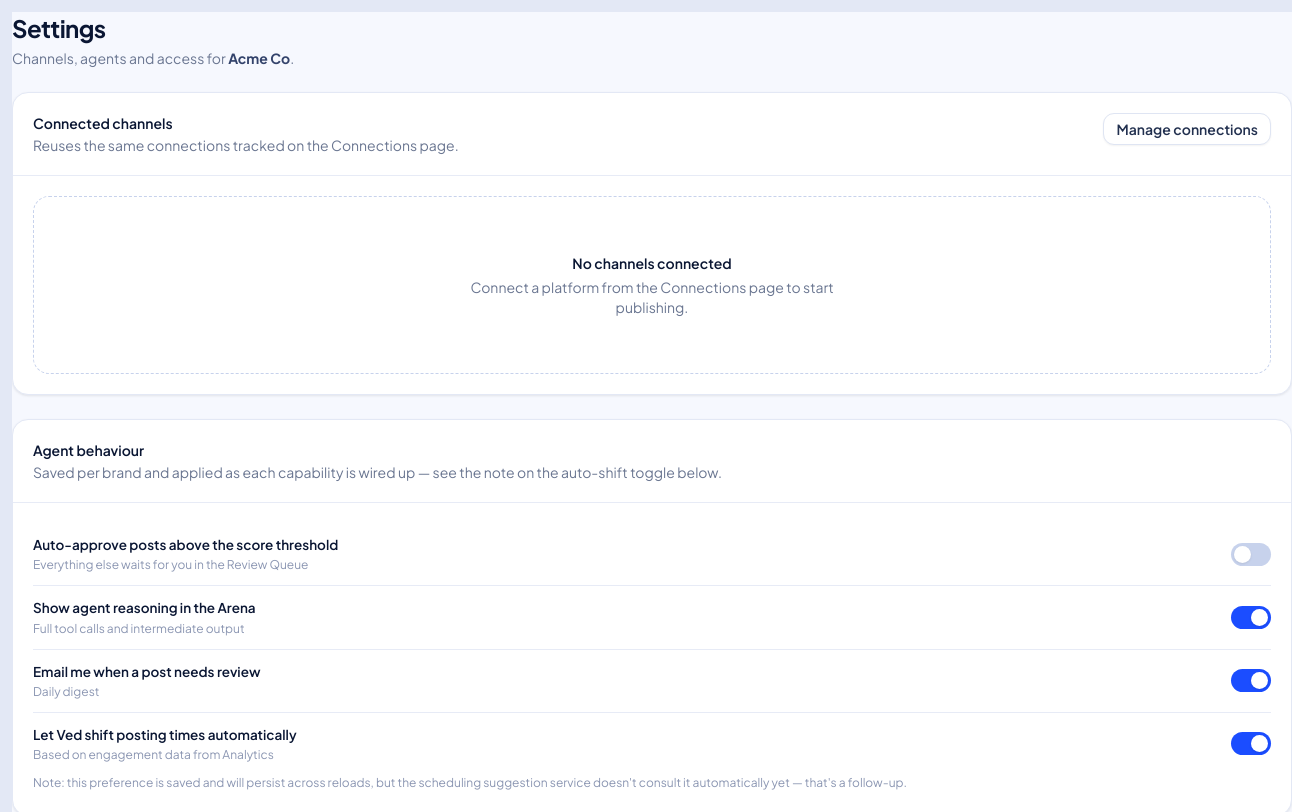
Scenario: SettingsPage › reverts the toggle and shows an error toast when saving fails
What coordinates should you click on to do the following:
click the switch named "Show agent reasoning in the Arena"
I would click on:
 (1251, 617)
Its box is 1231,606 -> 1271,629.
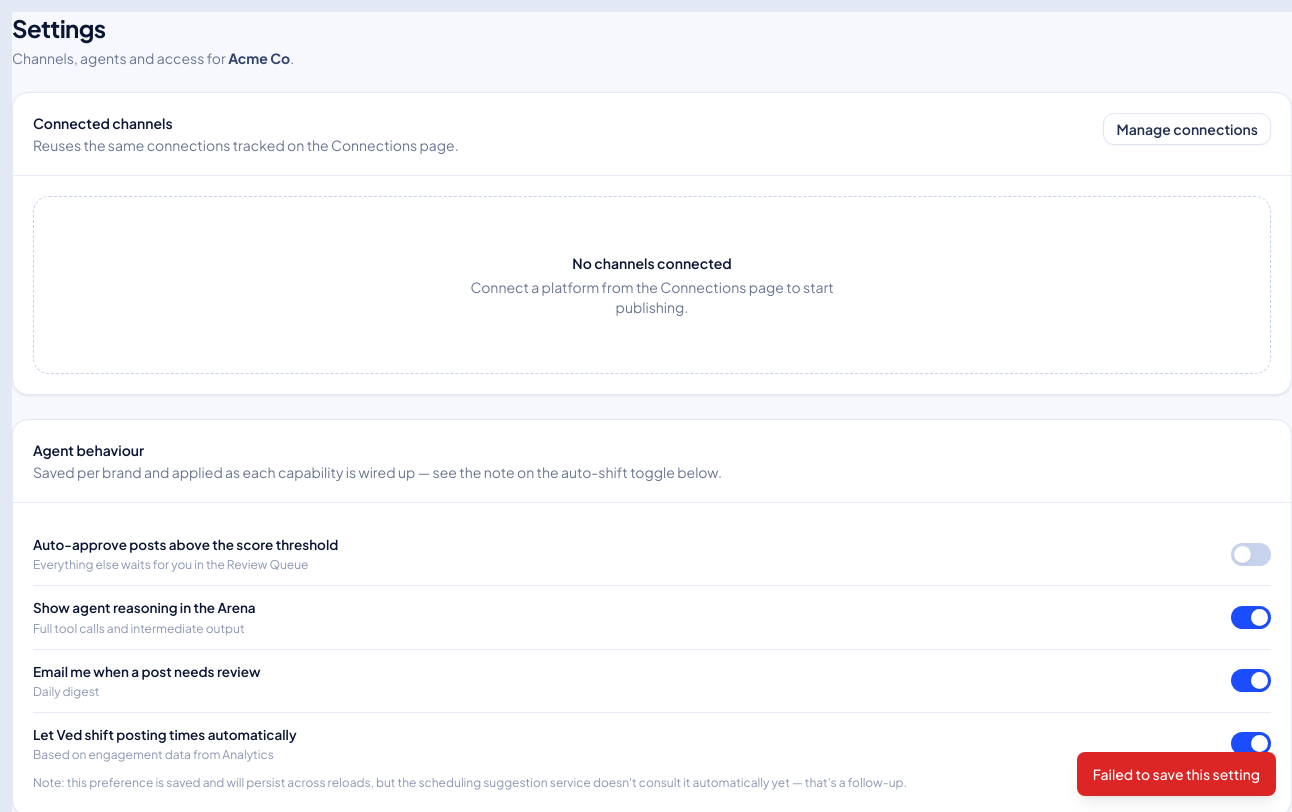
expect the text "Failed to save this setting" is shown: met, box 1077,752 -> 1276,796
